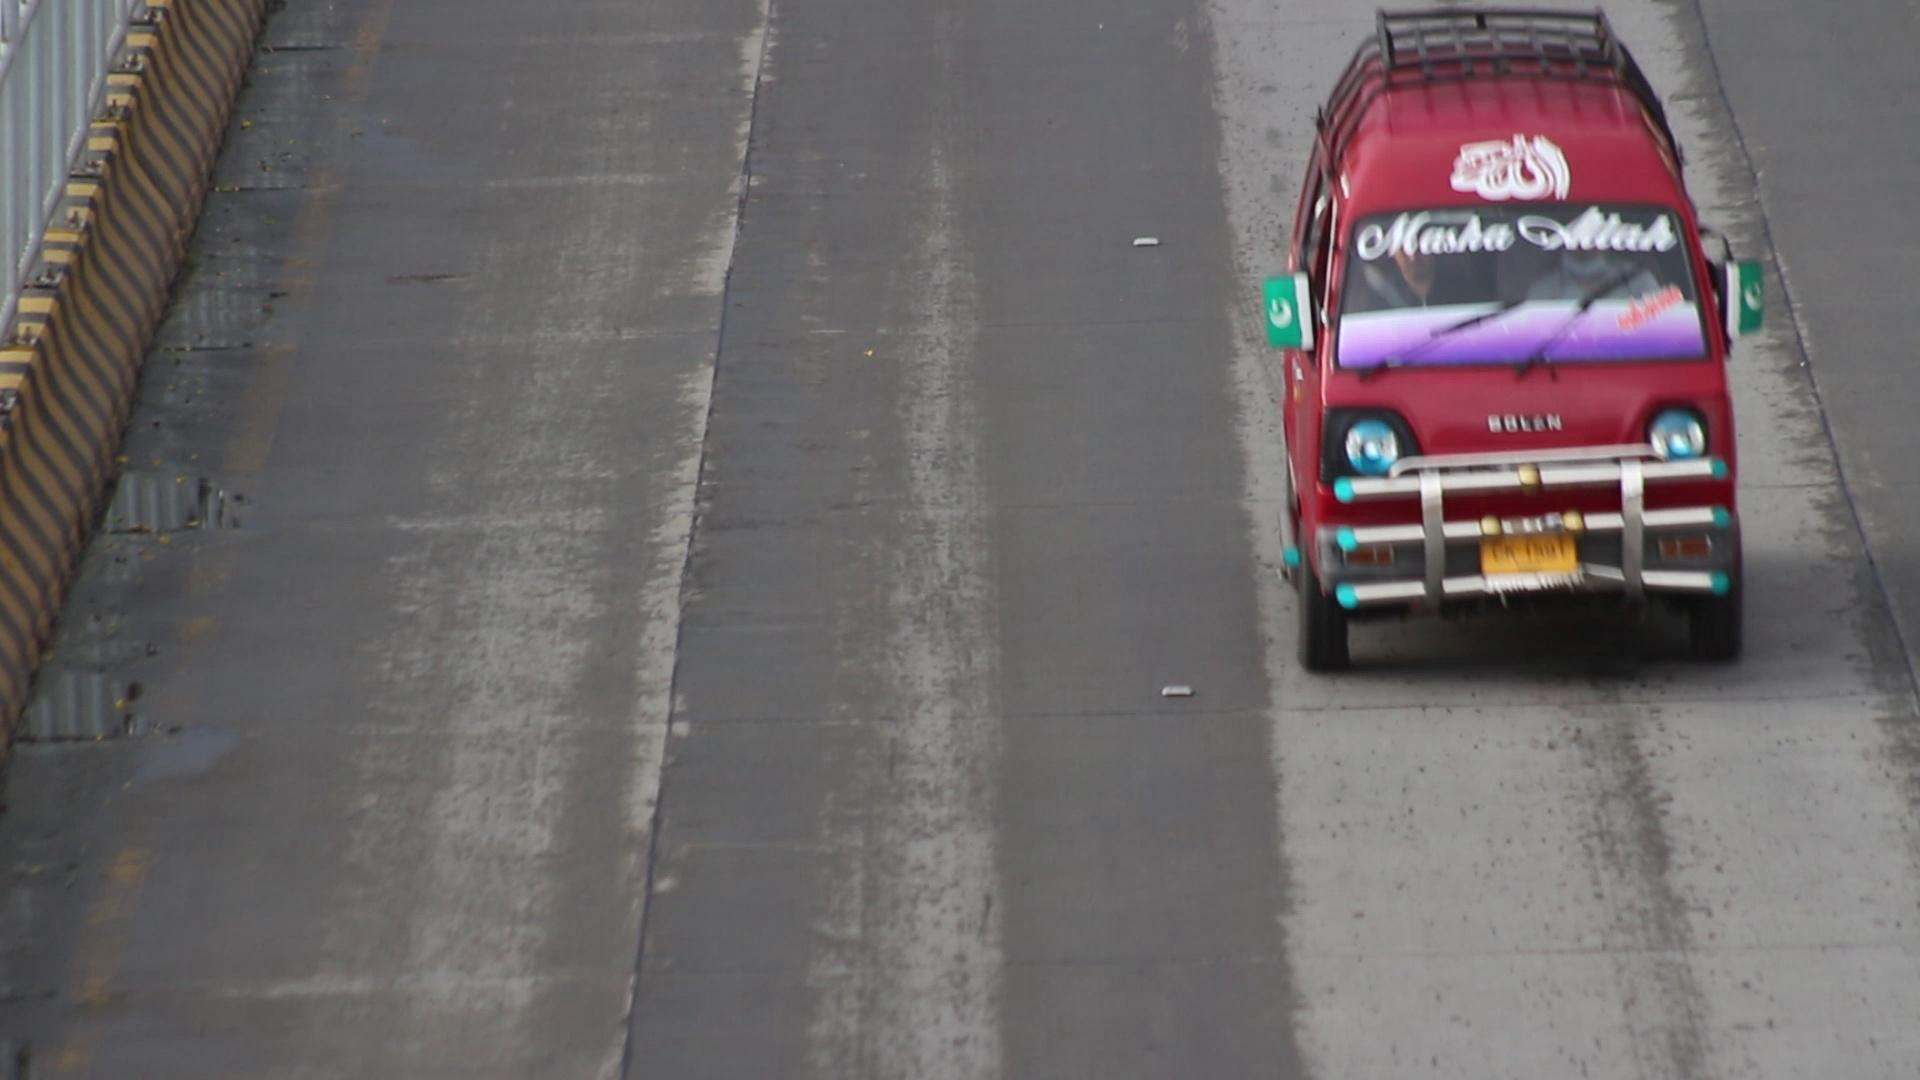windshield: (1327, 173, 1721, 393)
